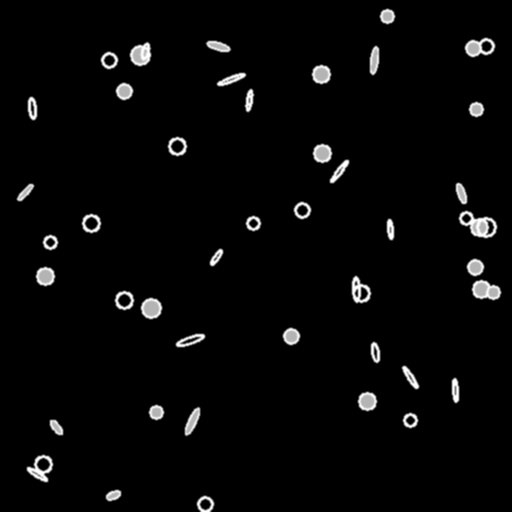pseudomonas: (183, 407, 201, 435), (329, 159, 349, 183), (176, 332, 204, 348), (401, 365, 419, 389), (217, 72, 245, 86), (26, 466, 48, 482), (16, 183, 34, 201), (454, 182, 468, 204), (206, 40, 230, 52), (48, 418, 64, 436), (369, 47, 379, 73), (209, 248, 223, 266), (370, 342, 380, 362), (105, 489, 121, 501), (140, 42, 150, 60), (28, 97, 36, 119), (245, 90, 253, 110), (353, 276, 359, 302), (452, 379, 458, 401), (387, 219, 393, 239)
synechocystis: (131, 46, 149, 64), (142, 299, 160, 317), (477, 218, 495, 236), (359, 393, 375, 409), (473, 281, 489, 297), (313, 66, 329, 82), (471, 219, 487, 235), (314, 145, 330, 161), (37, 268, 53, 284), (353, 285, 369, 301), (116, 292, 132, 308), (35, 456, 51, 472), (169, 138, 185, 154), (83, 215, 99, 231), (284, 329, 298, 343), (479, 39, 493, 53), (468, 260, 482, 274), (117, 84, 131, 98), (466, 41, 480, 55), (198, 497, 212, 511), (295, 203, 309, 217), (102, 53, 116, 67), (381, 10, 393, 22), (404, 414, 416, 426), (247, 217, 259, 229), (150, 406, 162, 418), (470, 103, 482, 115), (460, 212, 472, 224), (44, 236, 56, 248), (487, 286, 499, 298)
